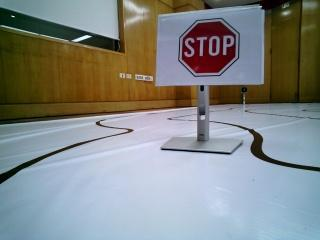stop: (166, 7, 264, 74)
